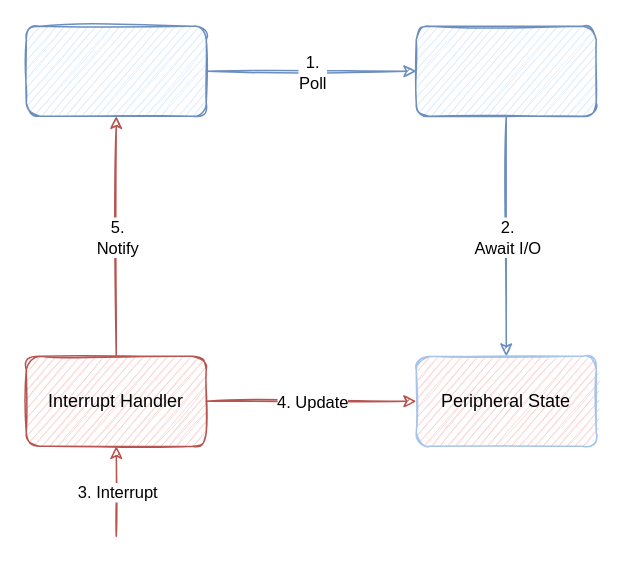
The diagram is 623 pixels wide and 575 high, and some of its shapes have lost their labels. The centre of each missing label's shape, as x and y in pixels:
"Executor" belongs at (115,70).
"Task" belongs at (505,70).
